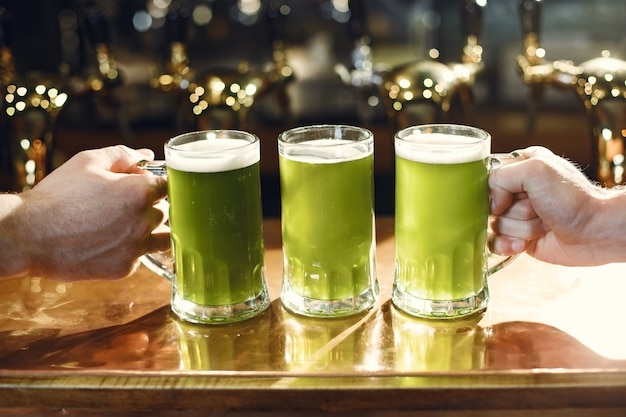alcohol: (393, 123, 541, 319), (131, 129, 270, 326), (279, 125, 376, 320)
